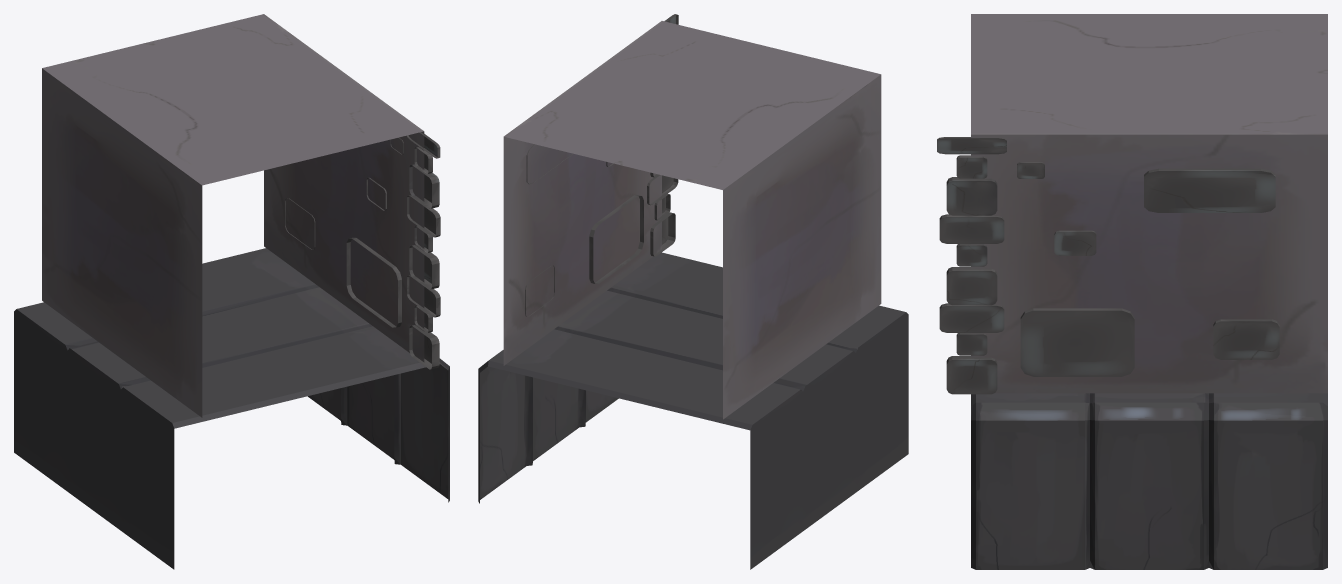
File: Wall.fbx
The picture shows the model from 3 angles, left to right: view 1: azimuth 30°, elevation 25°; view 2: azimuth 150°, elevation 25°; view 3: azimuth 270°, elevation 25°; orthographic projection. The views are drawn at different scales.
Visible parts, largest first — view 1: Cube.008; view 2: Cube.008; view 3: Cube.008.
Boxes of the visible parts, <box> form: Cube.008: <box>14,14,449,569</box>; Cube.008: <box>478,14,908,569</box>; Cube.008: <box>937,14,1327,569</box>.
Size of the model in its own units: 100 by 130 by 110.
Materials: 1 (1 with a texture image).
